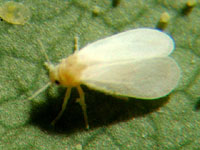whitefly: (27, 24, 179, 134)
